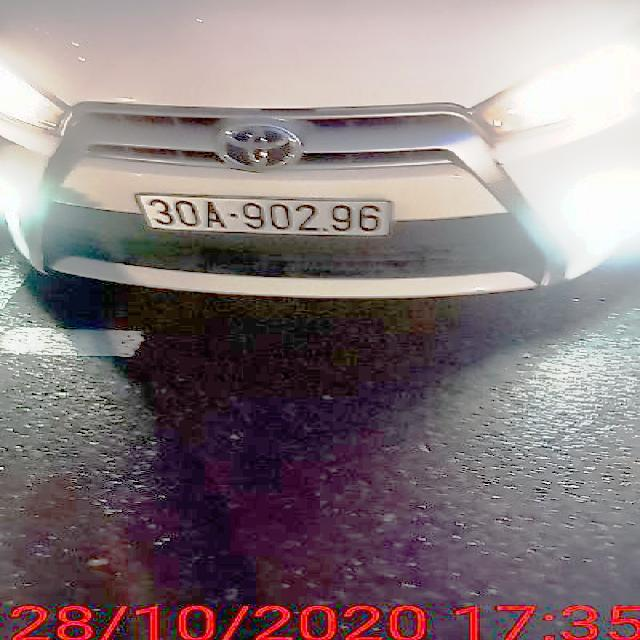license_plate: (132, 192, 392, 235)
